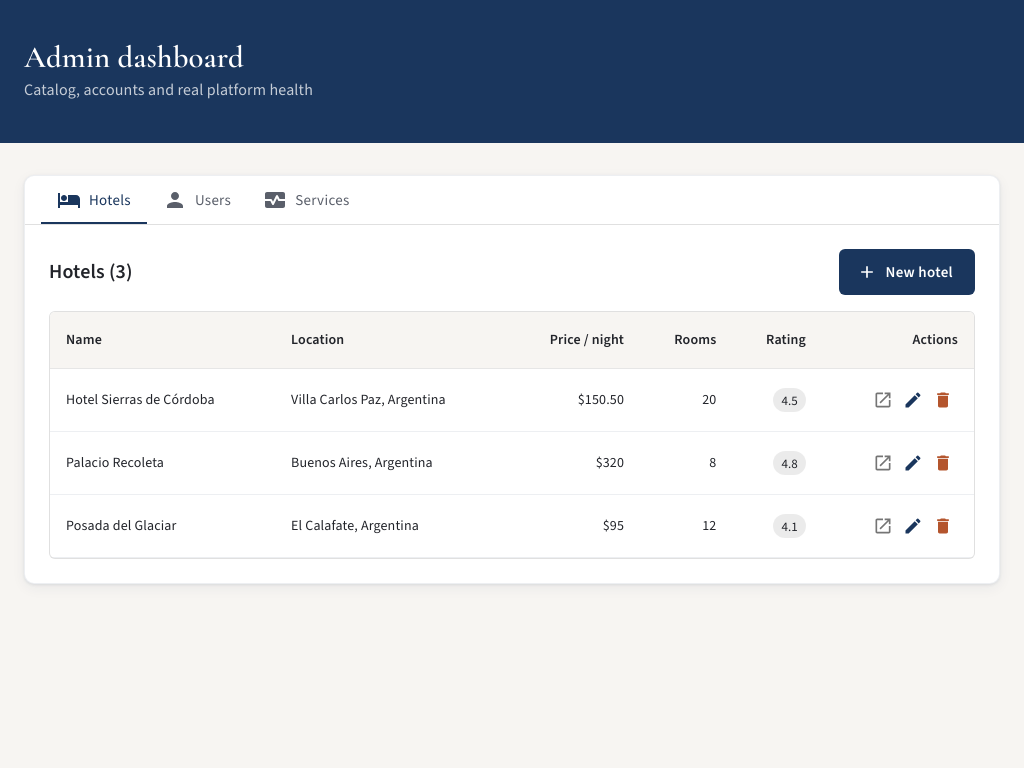
Test: Admin Dashboard › borrar otro usuario pide confirmación nombrándolo y refresca la lista
The width and height of the screenshot is (1024, 768).
Click the tab "Users" at {"x": 197, "y": 200}, box [147,176,247,224]
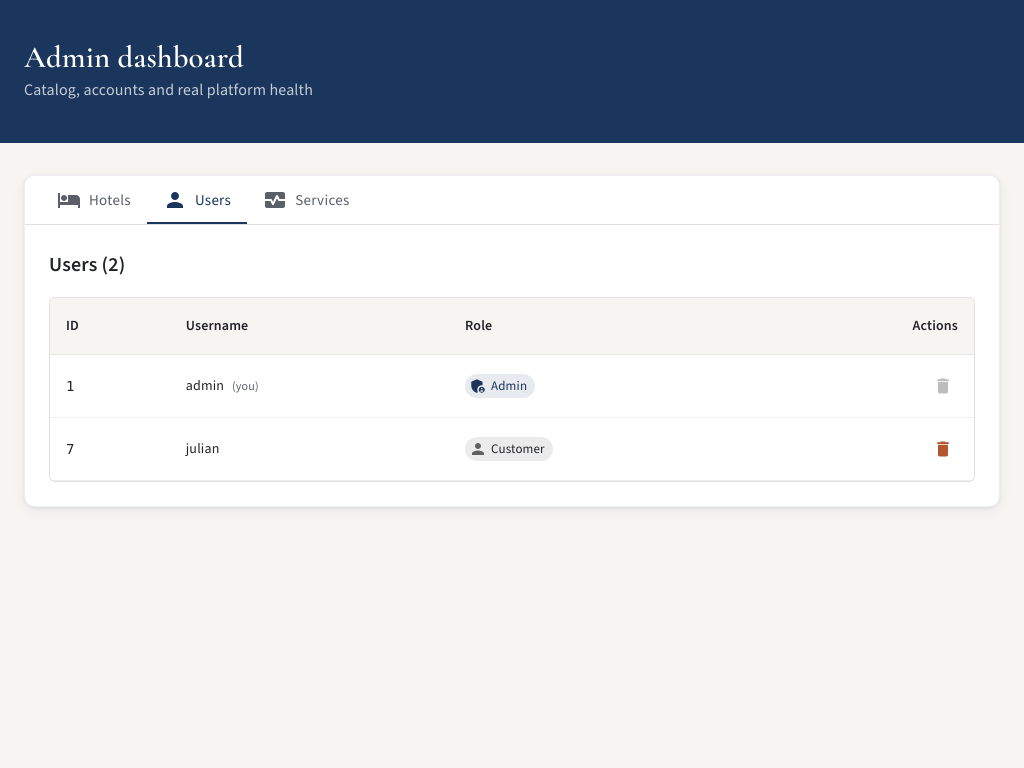
Click the button named "delete julian" at {"x": 943, "y": 449}, box [928,434,958,464]
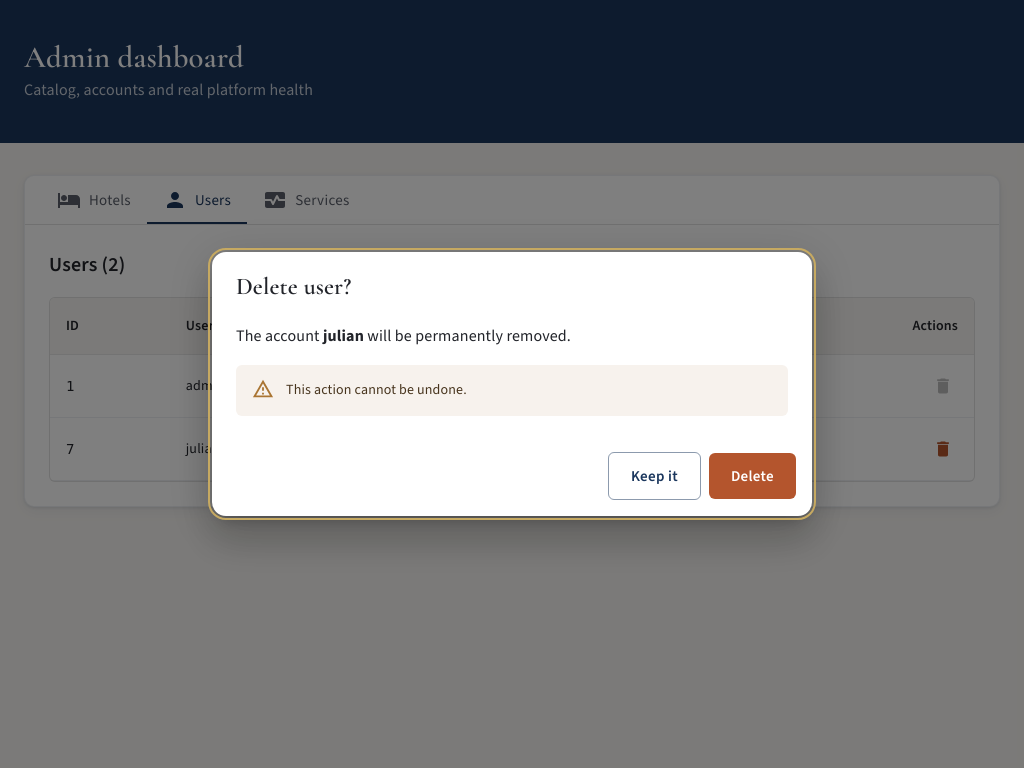
expect the text "julian" is shown: met, box [323,325,364,346]
Click the button "Delete" at {"x": 752, "y": 476}, box [709,453,796,499]
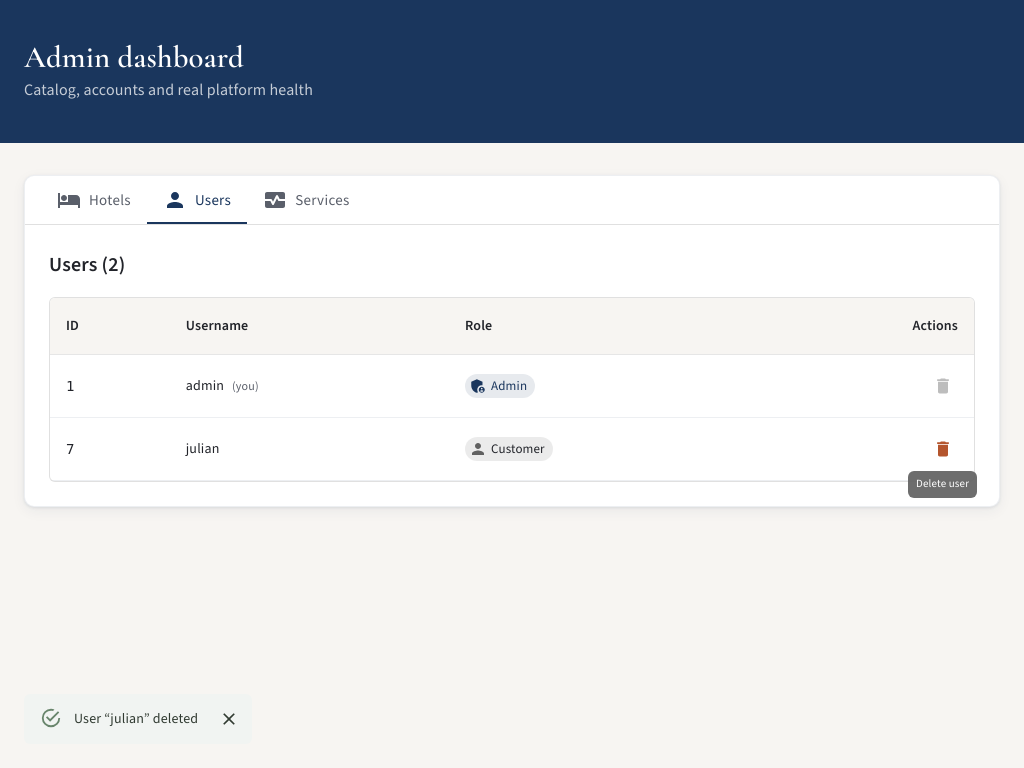
expect the text "User “julian” deleted" is shown: met, box [74,709,198,728]
